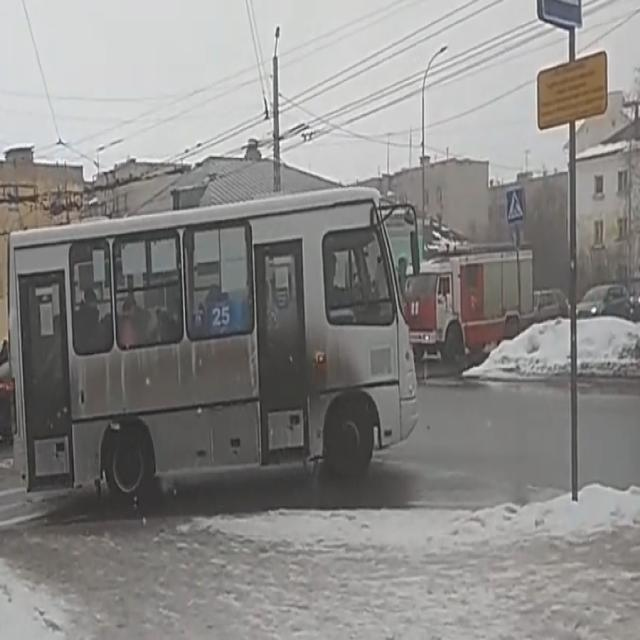fire fighting vehicle: (403, 236, 543, 374)
non emergency car: (8, 183, 424, 510), (576, 280, 634, 336)
